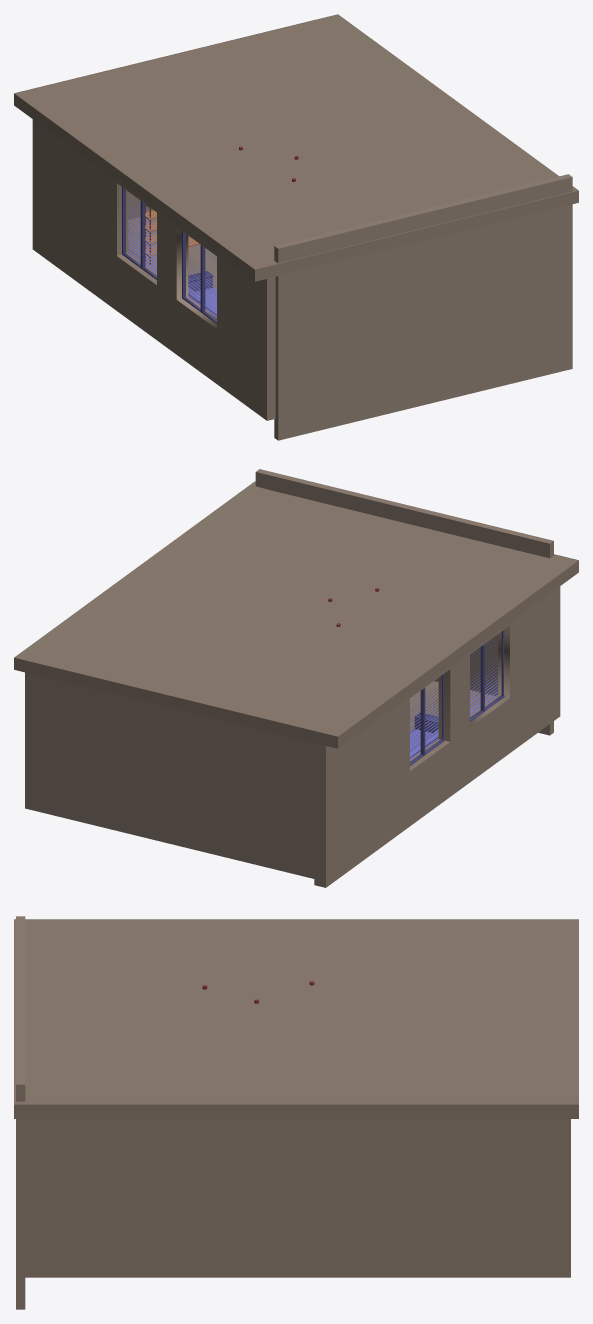
File: portfolio_main.glb
3 renders of one model, top to bottom at view 1: azimuth 30°, elevation 25°; view 2: azimuth 150°, elevation 25°; view 3: azimuth 270°, elevation 25°, orthographic. The views are drawn at different scales.
Parts seen in each view (by area): view 1: 223_Decke, 222_Würfel, 239_Wand_Fenster, 240_Würfel.5_2, 224_Wand, 301_Würfel.5_26_1, 236_Würfel.6_1.001, 240_Würfel.5_2.001, 274_Würfel.5_26; view 2: 223_Decke, 224_Wand, 239_Wand_Fenster, 222_Würfel, 240_Würfel.5_2, 301_Würfel.5_26_1, 241_Würfel.4_3, 274_Würfel.5_26, 236_Würfel.6_1.001; view 3: 223_Decke, 224_Wand, 222_Würfel.
Part boxes in pixels (x1,y1,x2,y2): 223_Decke: (14, 14, 578, 281); 222_Würfel: (274, 174, 572, 440); 239_Wand_Fenster: (32, 119, 275, 420); 240_Würfel.5_2: (176, 227, 216, 328); 224_Wand: (128, 192, 216, 289); 301_Würfel.5_26_1: (128, 194, 156, 273); 236_Würfel.6_1.001: (122, 187, 156, 279); 240_Würfel.5_2.001: (117, 183, 156, 284); 274_Würfel.5_26: (188, 238, 216, 317); 223_Decke: (14, 481, 578, 748); 224_Wand: (25, 672, 495, 878); 239_Wand_Fenster: (314, 586, 560, 887); 222_Würfel: (255, 469, 553, 735); 240_Würfel.5_2: (470, 626, 509, 726); 301_Würfel.5_26_1: (410, 680, 438, 759); 241_Würfel.4_3: (412, 669, 450, 766); 274_Würfel.5_26: (470, 637, 498, 715); 236_Würfel.6_1.001: (410, 674, 444, 765); 223_Decke: (14, 919, 578, 1118); 224_Wand: (25, 1119, 570, 1277); 222_Würfel: (16, 916, 25, 1309).
Bounding box in the file's own units: 559 × 316 × 720.
